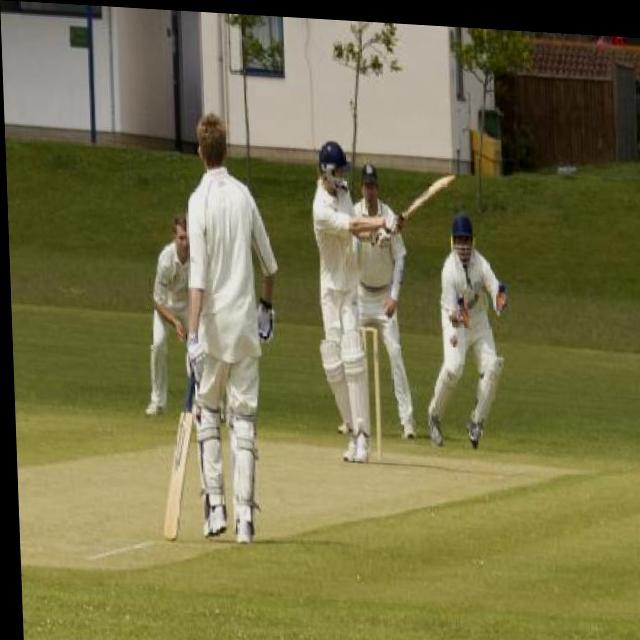-: (444, 316, 462, 359)
